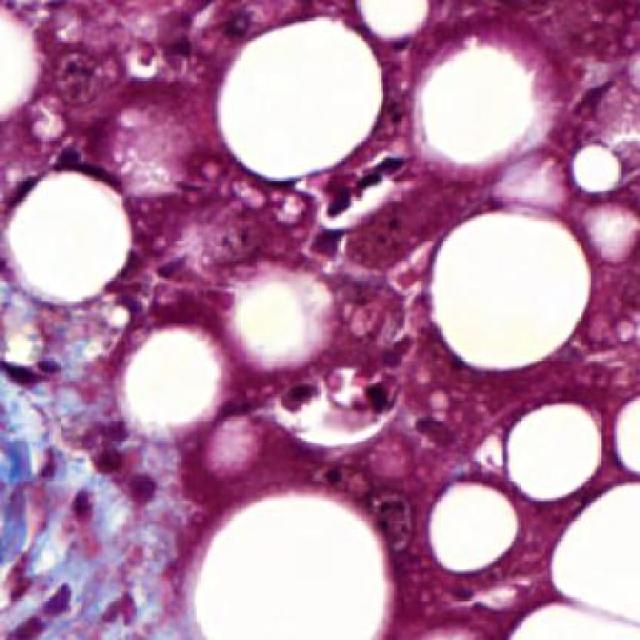steatosis: (206, 20, 389, 175), (431, 212, 599, 368), (500, 394, 613, 499), (423, 472, 522, 572)
